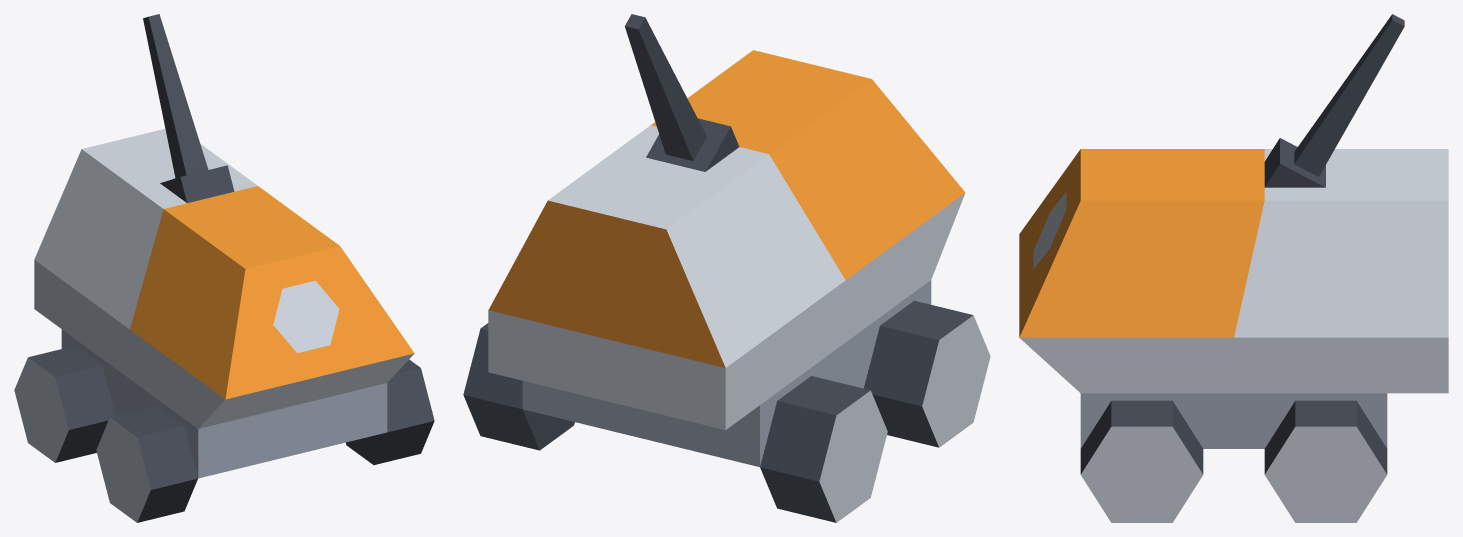
File: rover.fbx
3 views of the same model, side by side, from view 1: azimuth 30°, elevation 25°; view 2: azimuth 150°, elevation 25°; view 3: azimuth 270°, elevation 25° (orthographic). The views are drawn at different scales.
Parts seen in each view (by area): view 1: rover; view 2: rover; view 3: rover.
Boxes of the visible parts, left/top/right/bottom form: rover: left=14, top=14, right=434, bottom=522; rover: left=463, top=14, right=990, bottom=522; rover: left=1019, top=14, right=1448, bottom=522.
Size of the model in its own units: 3 by 3.85 by 3.5.
